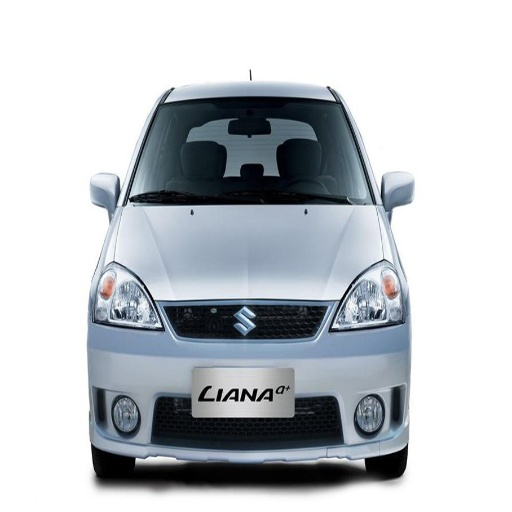front_bumper: (87, 299, 410, 465)
front_right_light: (91, 263, 161, 330)
hood: (114, 205, 383, 299)
left_mirror: (381, 170, 416, 209)
